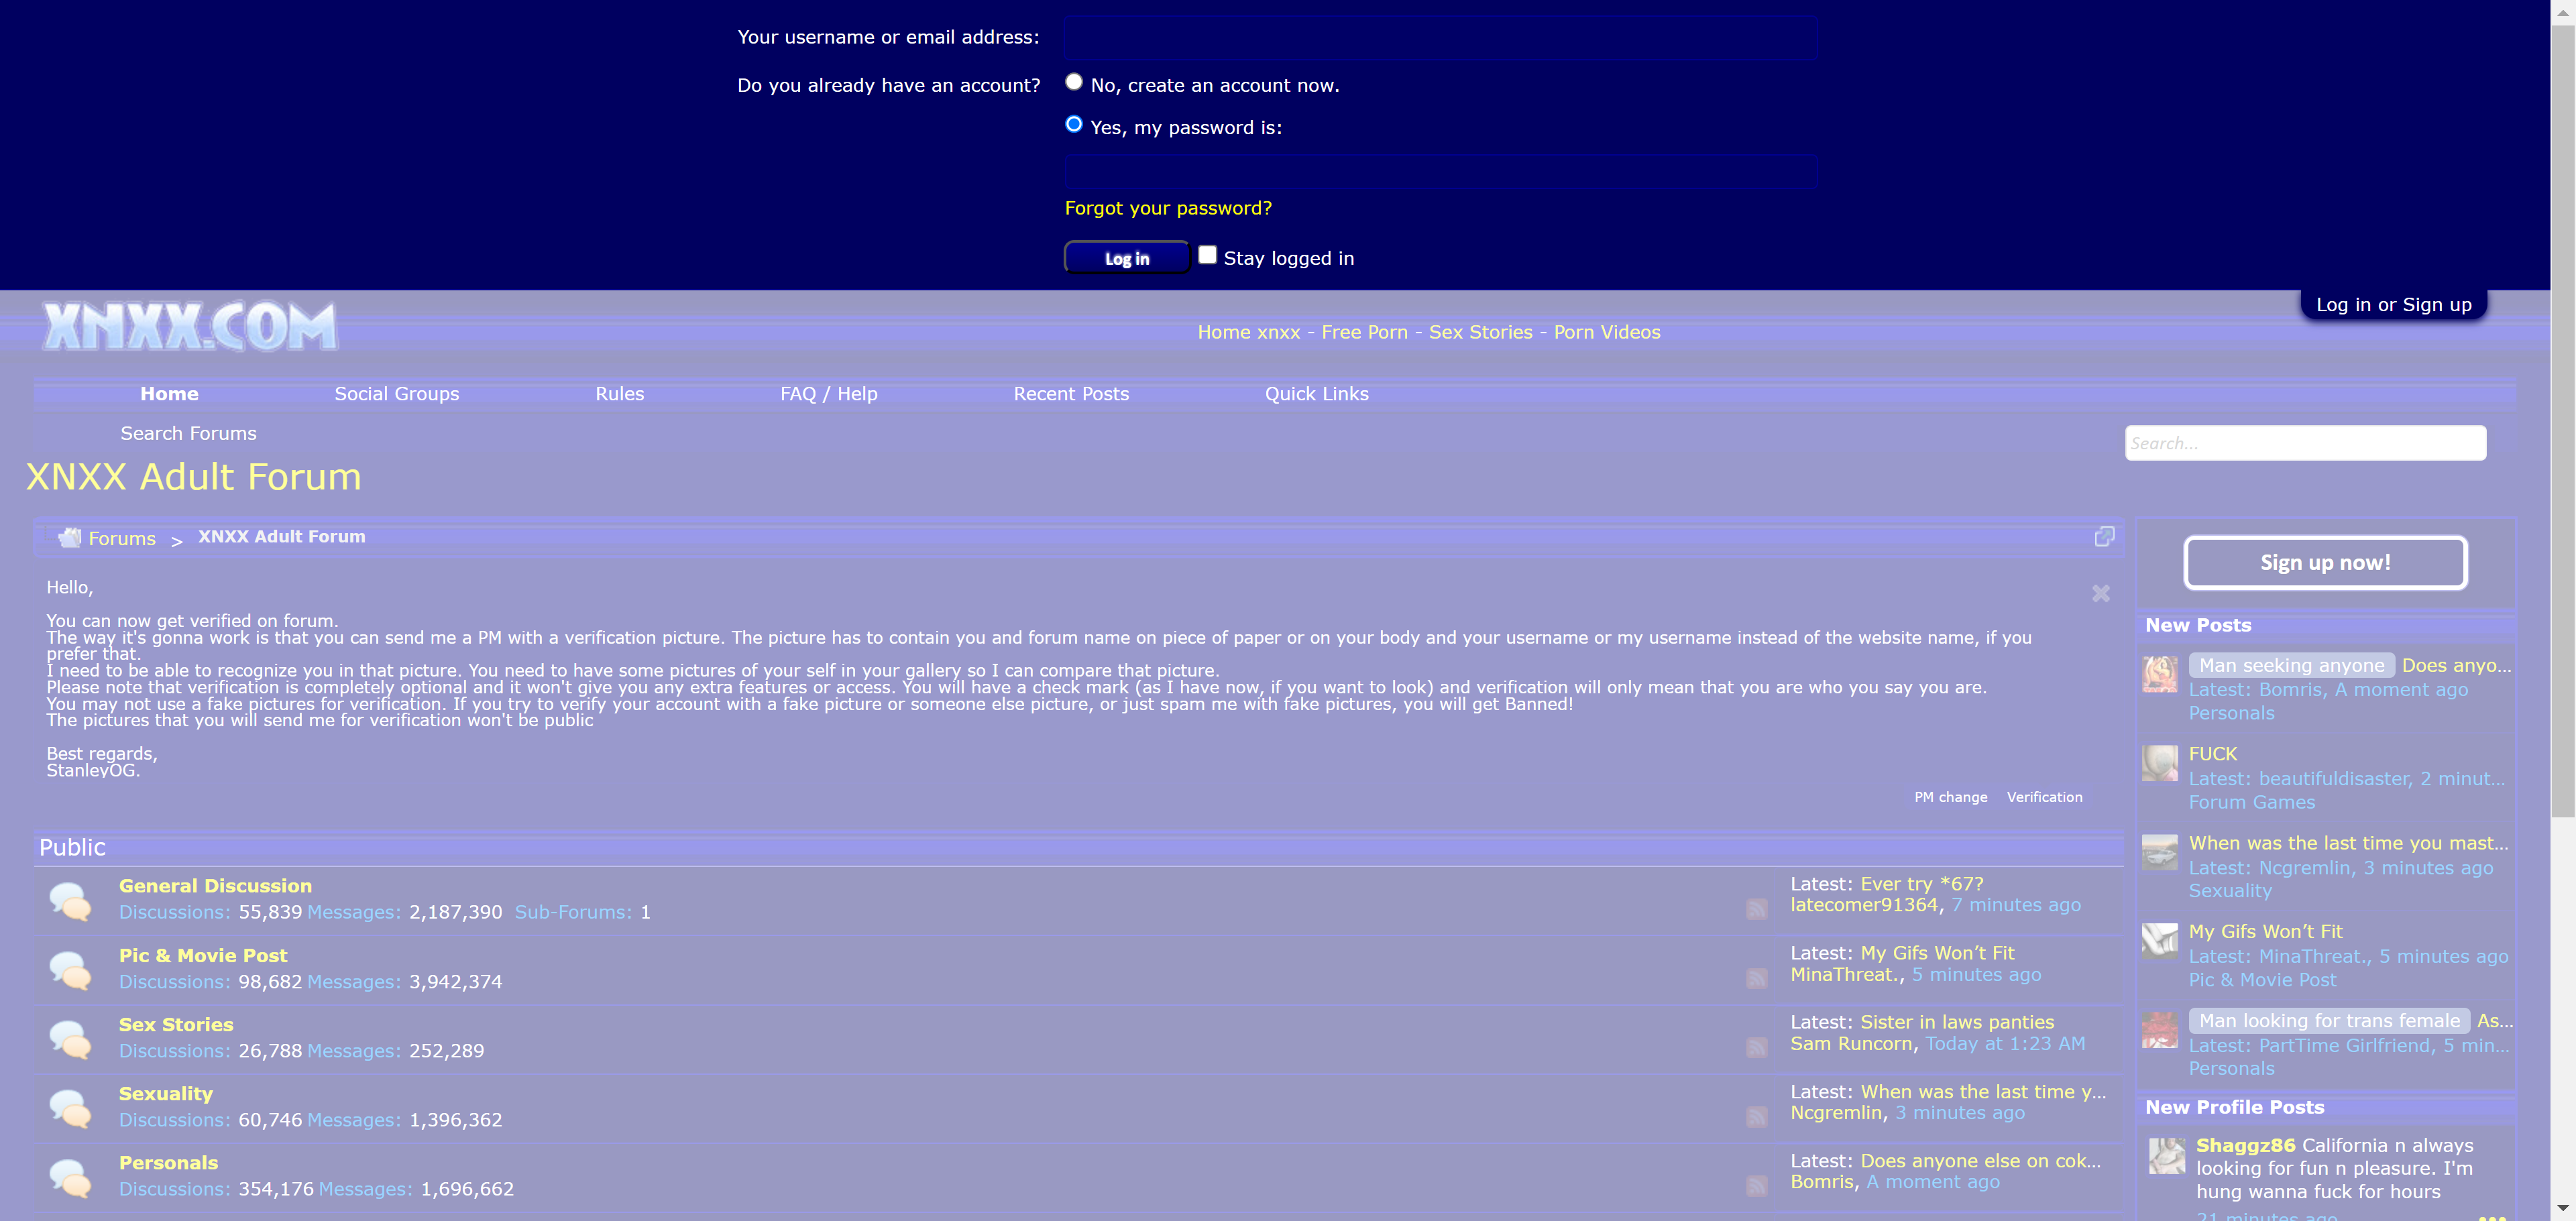login_button: (1065, 242, 1188, 270)
login_form: (1053, 7, 1828, 281)
